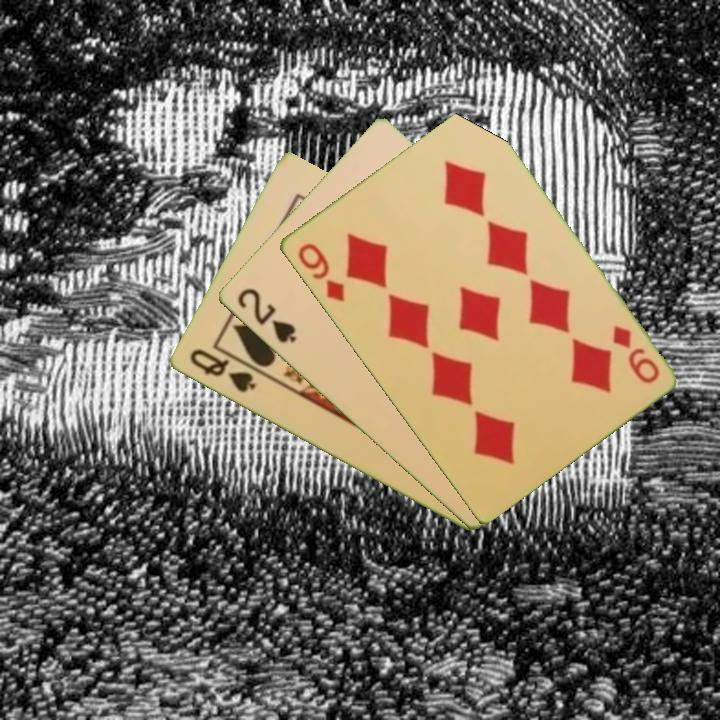2s: (233, 284, 299, 347)
9d: (293, 239, 348, 305), (608, 321, 662, 387)
Qs: (185, 345, 259, 396)
